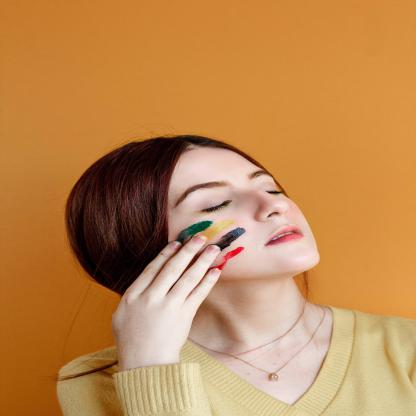Eye: (193, 197, 235, 215), (257, 182, 281, 195)
Mouth: (262, 224, 306, 249)
Nose: (242, 186, 289, 223)
